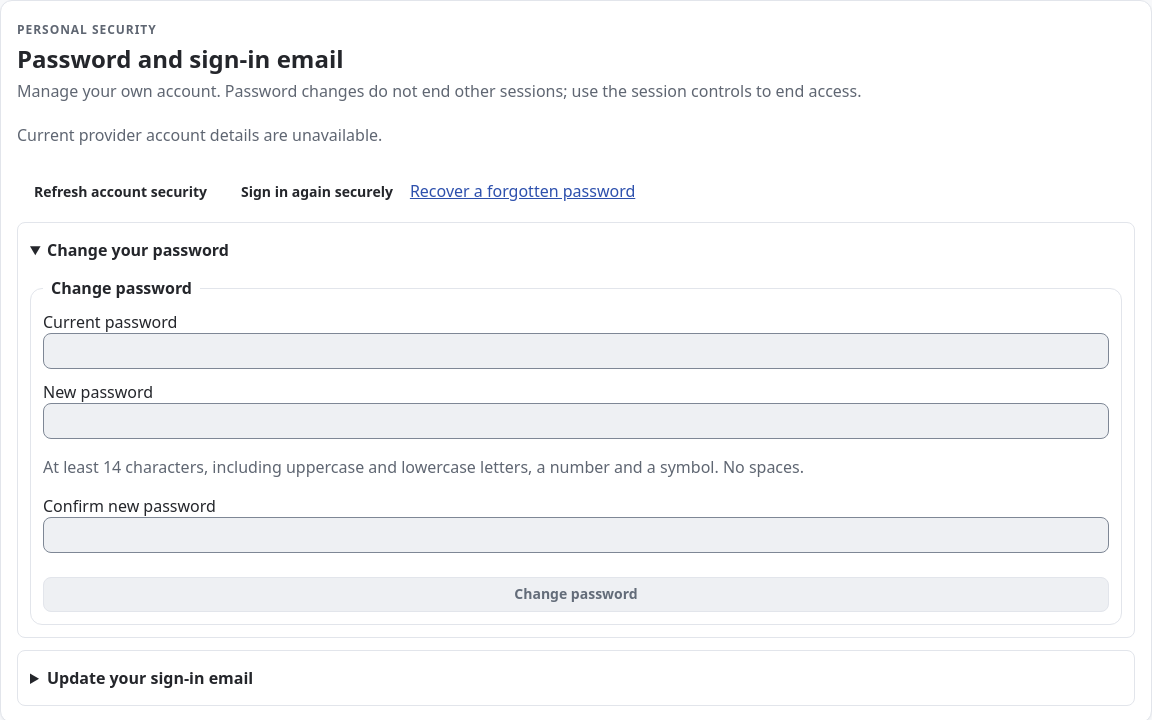
it: personal password and email controls › does not retry an uncertain password change and requires explicit readback before another attempt
Earlier steps of the test are not shown.
Click the heading "Update your sign-in email" at (150, 678), box [47,667,253,689]
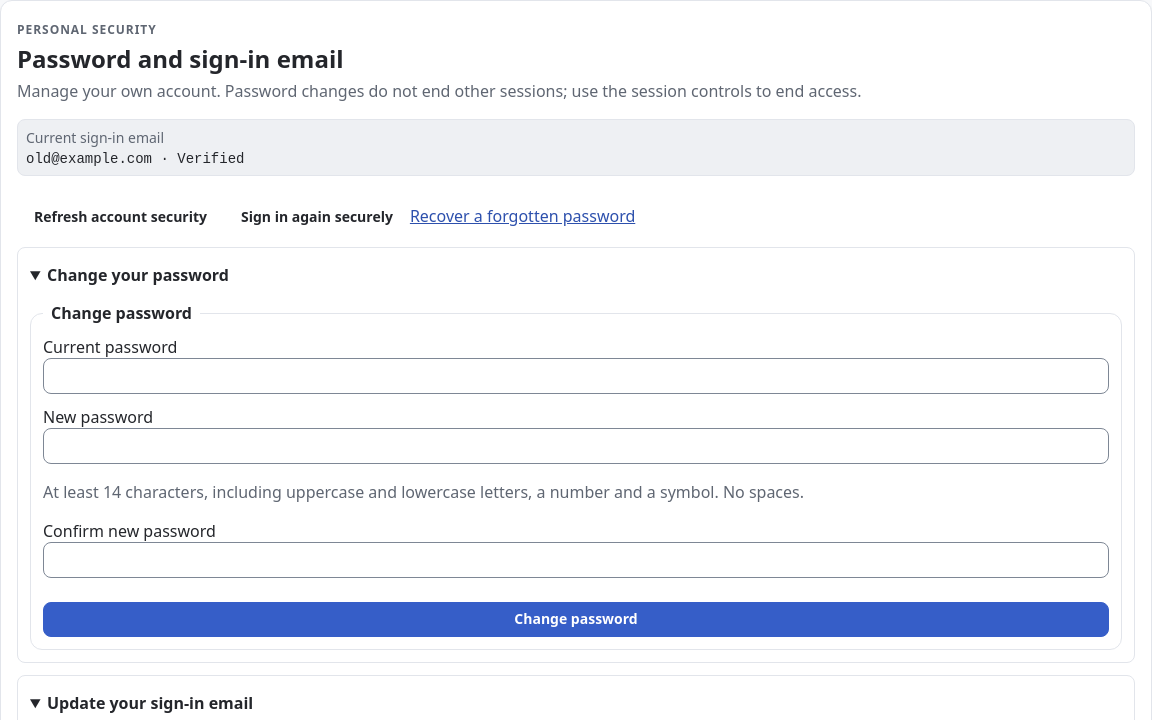
Expected: the button "Change password" is enabled, [43,602,1109,637]
Type "Synthetic-old-Password1!" into the password field labelled "Current password" at (576, 376), box [43,358,1109,394]
Type "Synthetic-new-Password2!" into the password field labelled "New password" at (576, 446), box [43,428,1109,464]
Type "Synthetic-new-Password2!" into the password field labelled "Confirm new password" at (576, 560), box [43,542,1109,578]
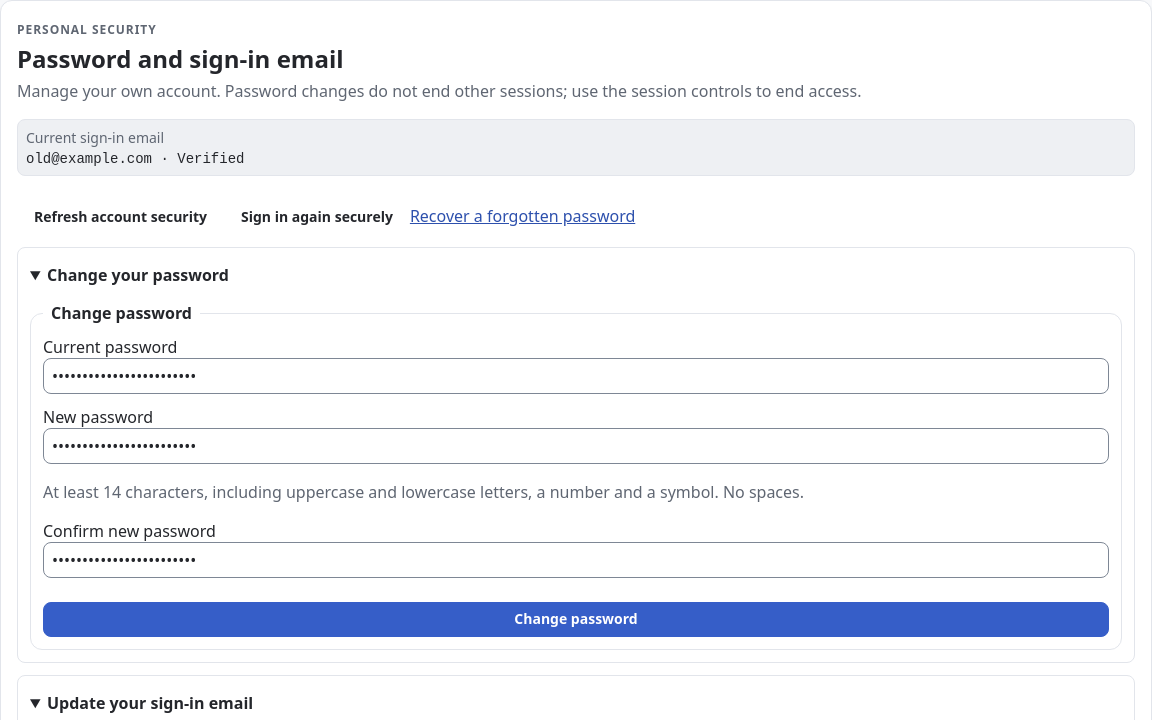
Click the button "Change password" at (576, 620), box [43,602,1109,637]
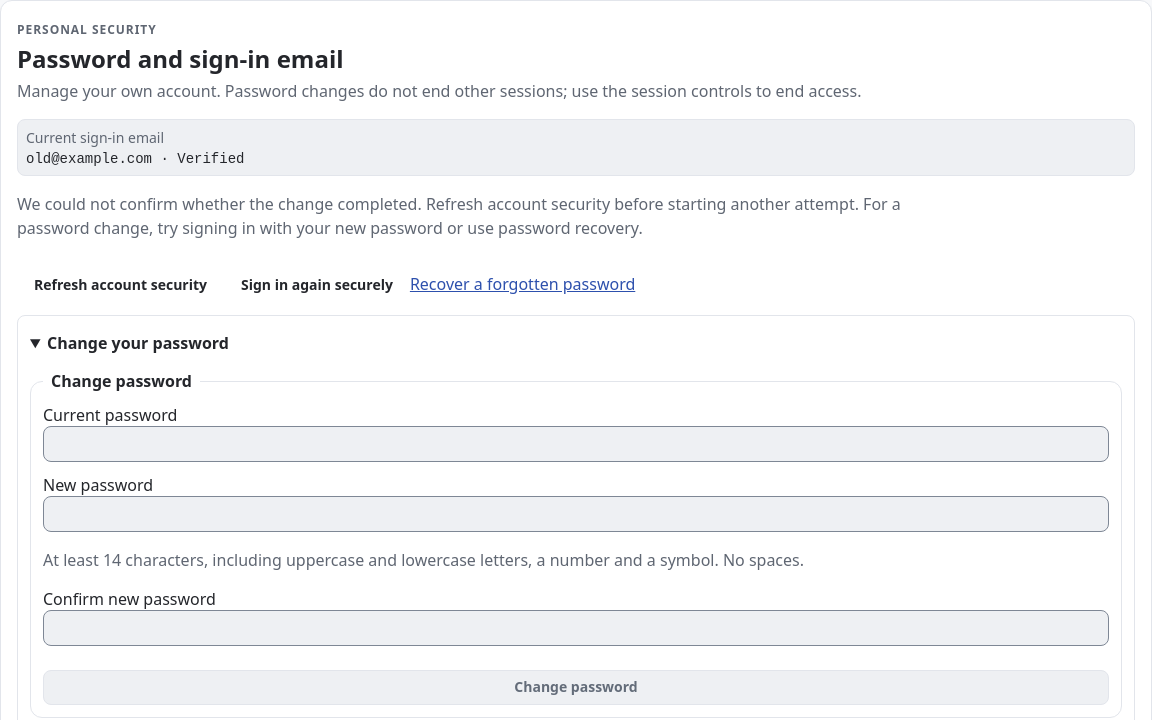
Expected: the button "Change password" is disabled, [43,670,1109,705]
Expected: the text "We could not confirm whether the change completed" is shown, [17,193,901,239]
Click the button "Refresh account security" at (120, 286), box [17,268,224,303]
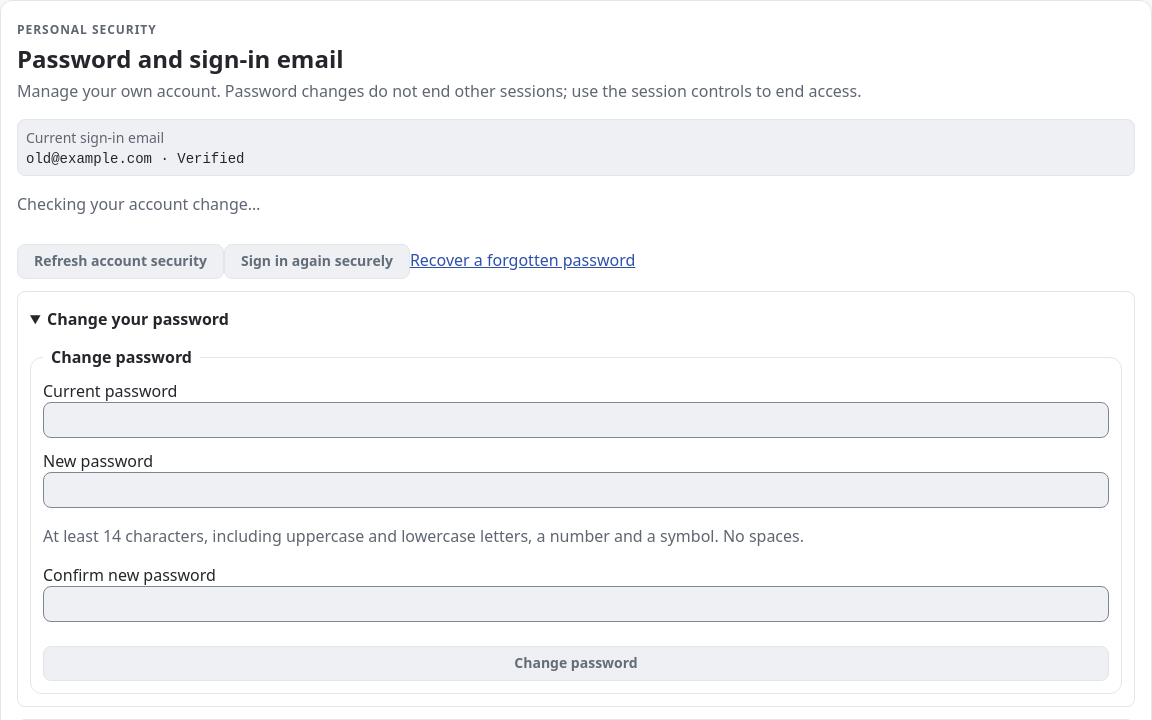
Click the heading "Change your password" at (138, 319), box [47,308,229,330]
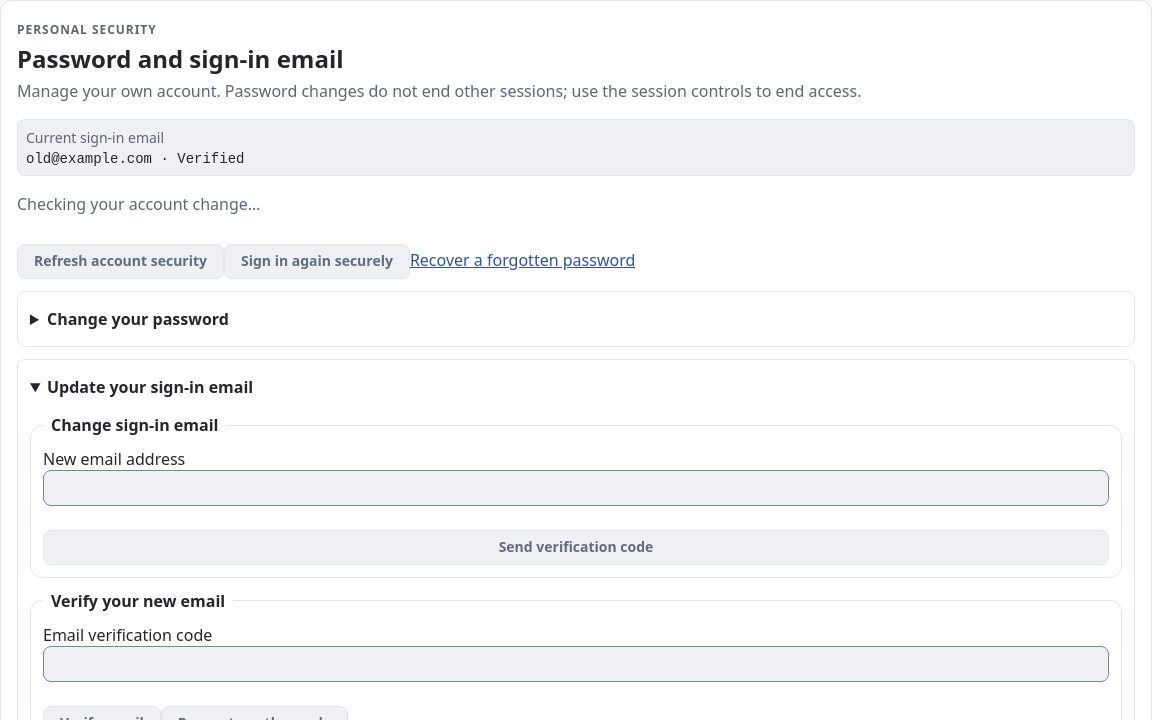
Click the heading "Update your sign-in email" at (150, 387), box [47,376,253,398]
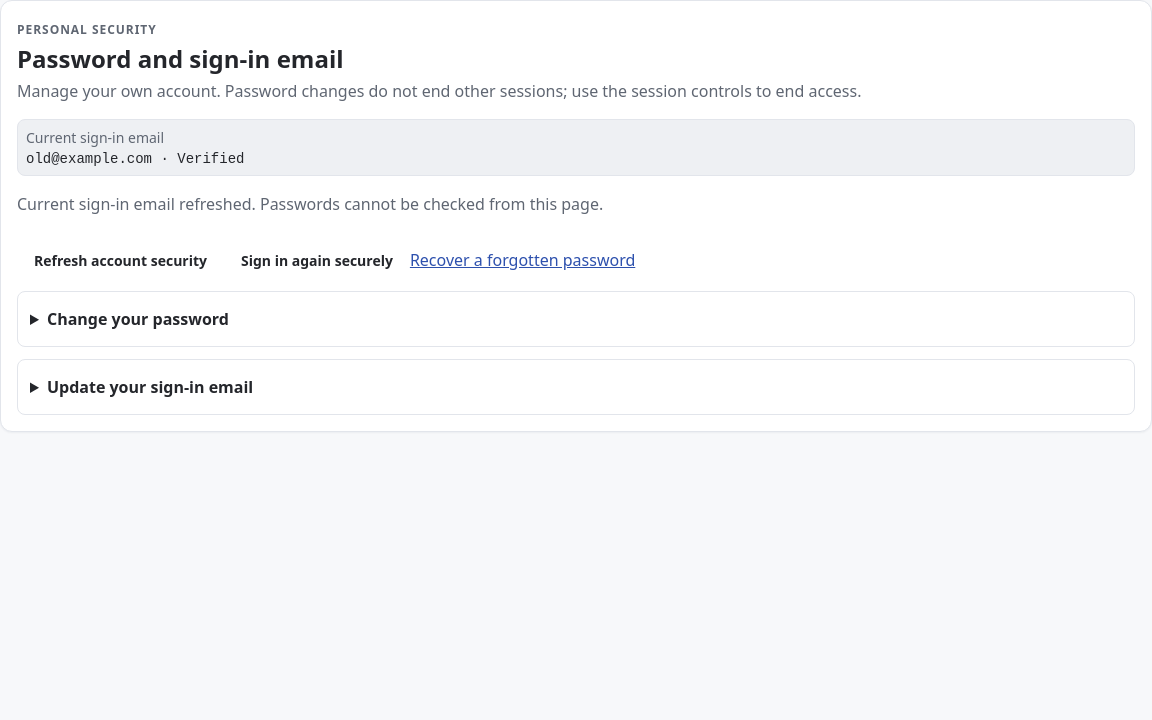
Expected: the text "Current sign-in email refreshed. Passwords cannot be checked from this page." is shown, [17,193,603,215]
